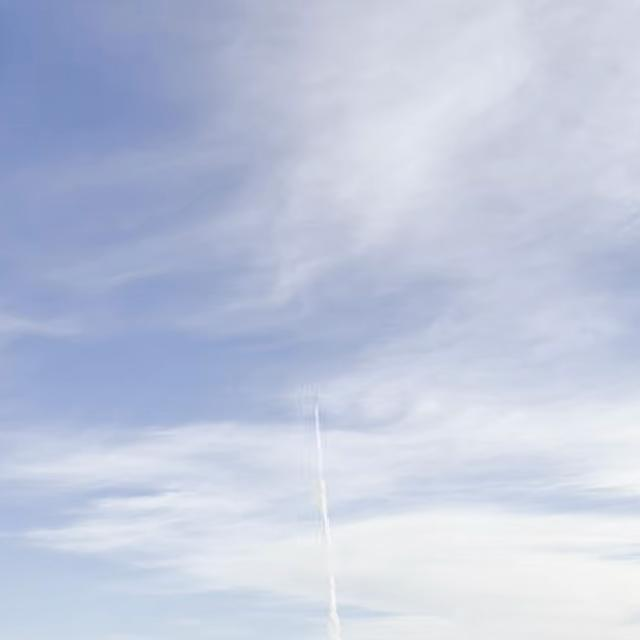smoke_trail_with_rocket: (313, 404, 342, 640)
